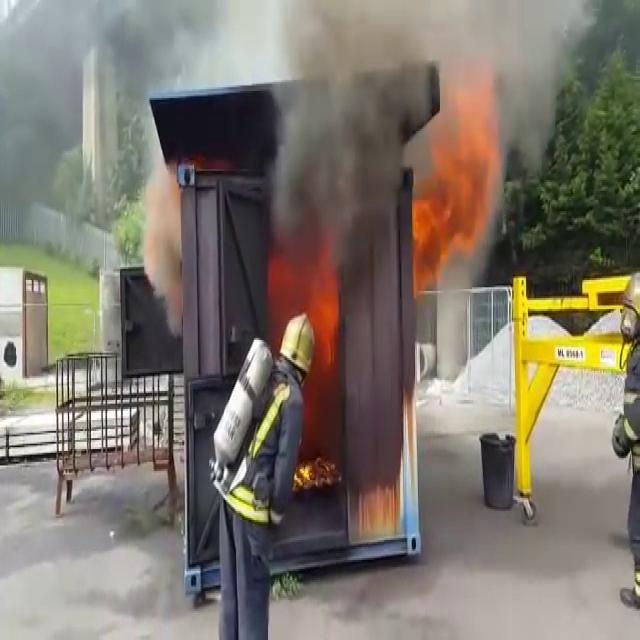Fire: (314, 279, 346, 488)
Smoke: (313, 34, 414, 216), (256, 40, 304, 248), (140, 176, 192, 320)
